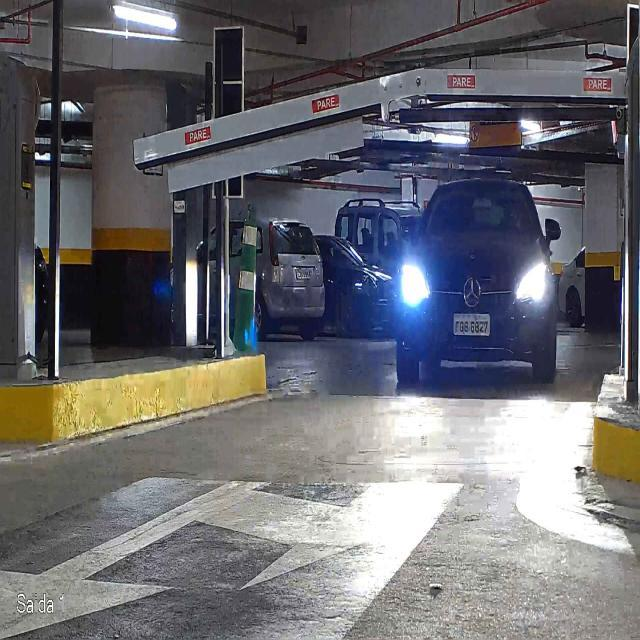old_plate: (451, 311, 492, 338)
